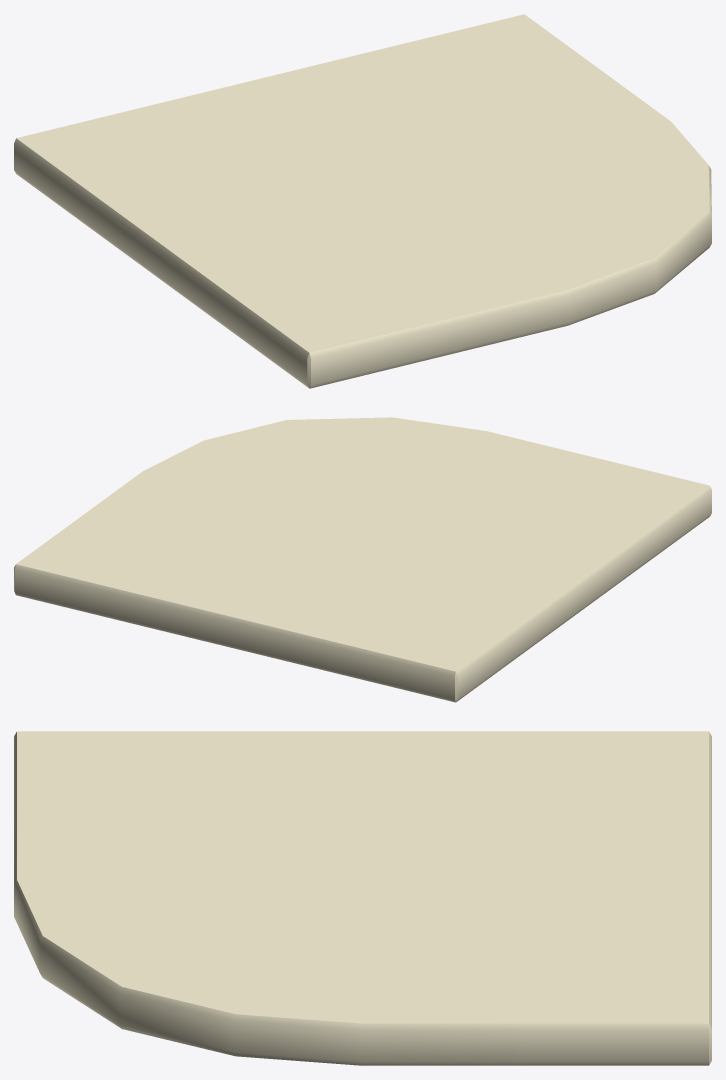
Rendered from Sidewalk_Corner.fbx.
3 views of the same model, one above another, from view 1: azimuth 30°, elevation 25°; view 2: azimuth 150°, elevation 25°; view 3: azimuth 270°, elevation 25° (orthographic). The views are drawn at different scales.
Visible parts, largest first — view 1: Plane.011; view 2: Plane.011; view 3: Plane.011.
Part boxes in pixels (bbox=[...]): Plane.011: bbox=[14, 14, 711, 388]; Plane.011: bbox=[14, 417, 711, 702]; Plane.011: bbox=[14, 731, 711, 1065].
Size of the model in its own units: 300 by 20 by 300.
